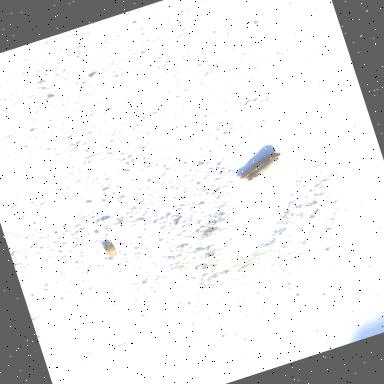pbw: (231, 148, 288, 186), (96, 234, 124, 263)
